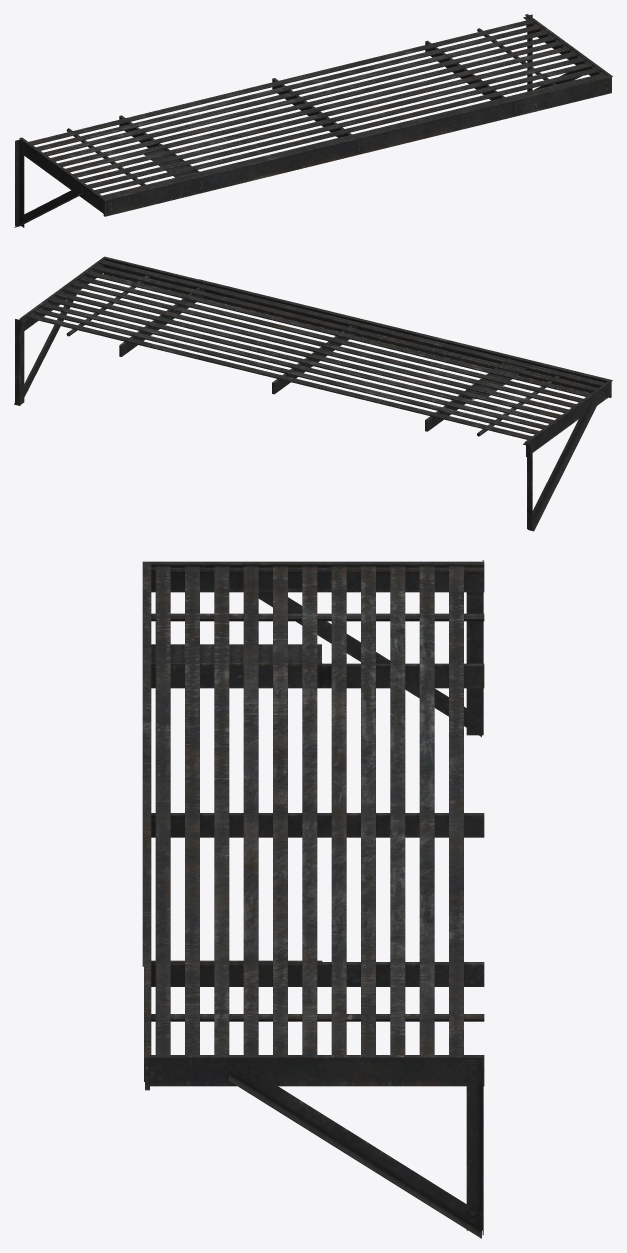
File: yangin_platform_a.gltf
The picture shows the model from 3 angles, top to bottom: view 1: azimuth 30°, elevation 25°; view 2: azimuth 150°, elevation 25°; view 3: azimuth 270°, elevation 25°; orthographic projection. The views are drawn at different scales.
Parts seen in each view (by area): view 1: yangin_platform_a; view 2: yangin_platform_a; view 3: yangin_platform_a.
Boxes of the visible parts, left/top/right/bottom form: yangin_platform_a: left=14, top=14, right=612, bottom=227; yangin_platform_a: left=14, top=256, right=612, bottom=531; yangin_platform_a: left=142, top=560, right=484, bottom=1238.
Size of what is drawn, in the model's own units: 4.79 by 0.7724 by 1.36.
1 material, 1 textured.
